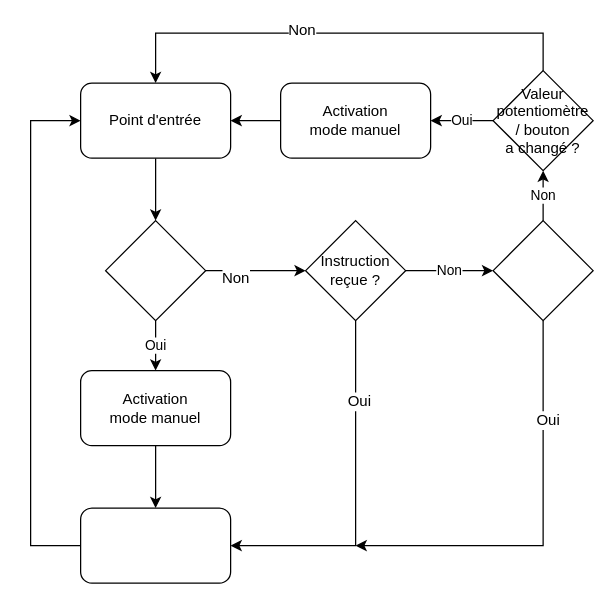
The diagram is 615 pixels wide and 605 high, and some of its shapes have lost their labels. The shapes that lost their labels are listed below. From the top down, each one's centre as x and y in pixels, then its label:
[155,270]: Première exécution ?
[542,270]: Mode manuel activé ?
[155,545]: Mise à jour potentiomètres et boutons
